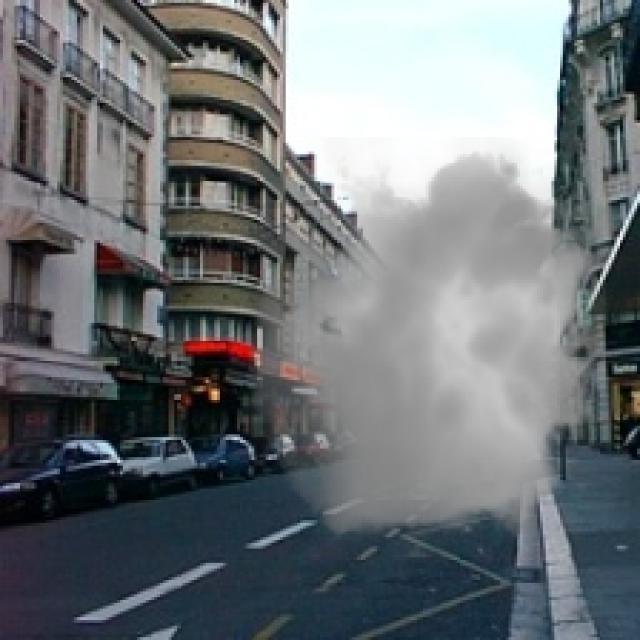Smoke: (237, 137, 623, 557)
